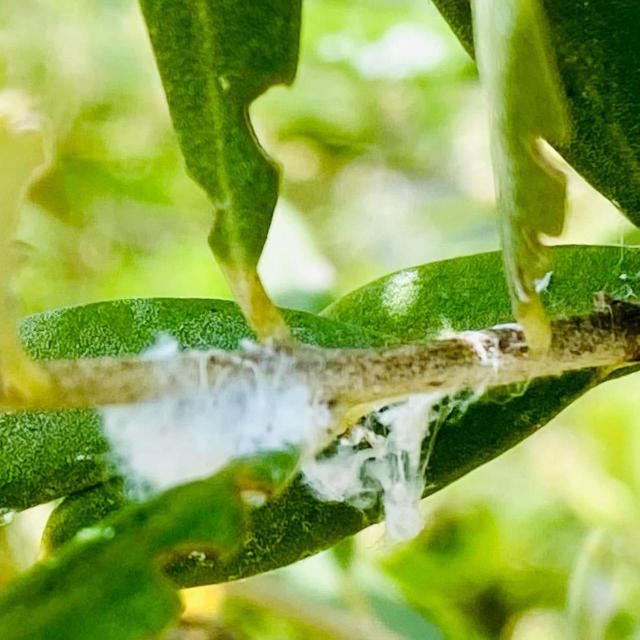Psyllid: (99, 337, 332, 501), (302, 390, 474, 545), (436, 322, 528, 374)
